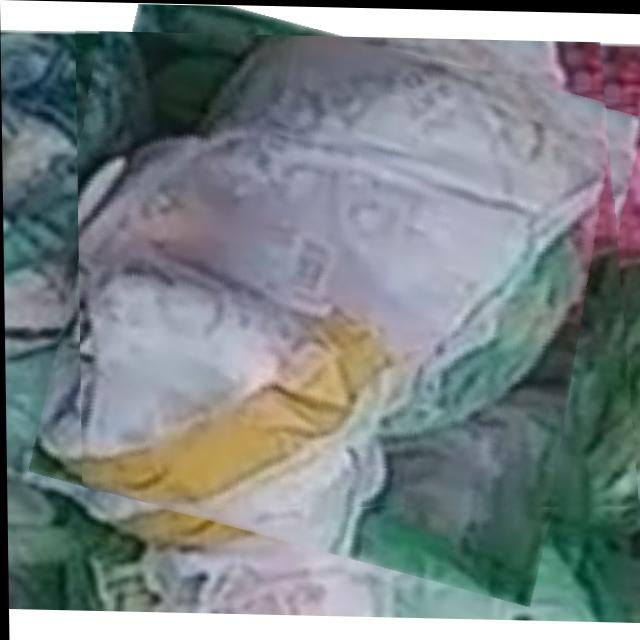other_trashbag: (78, 34, 612, 506)
